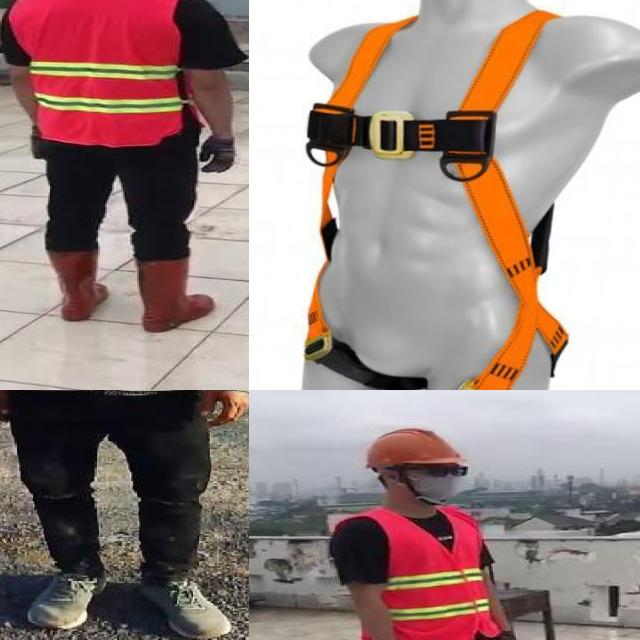Harness: (305, 10, 569, 390)
boots: (130, 256, 217, 334), (38, 251, 110, 321)
face_mask: (407, 464, 467, 499)
glasses: (414, 462, 472, 480)
hand_glove: (200, 135, 238, 176), (485, 631, 521, 640)
hand_noglove: (213, 390, 249, 449)
head_helmet: (358, 426, 472, 466)
person: (0, 0, 249, 343), (0, 390, 249, 640), (310, 420, 561, 640)
shoes: (81, 590, 215, 640), (0, 593, 75, 640)
vest: (10, 0, 190, 147), (340, 514, 498, 640)
